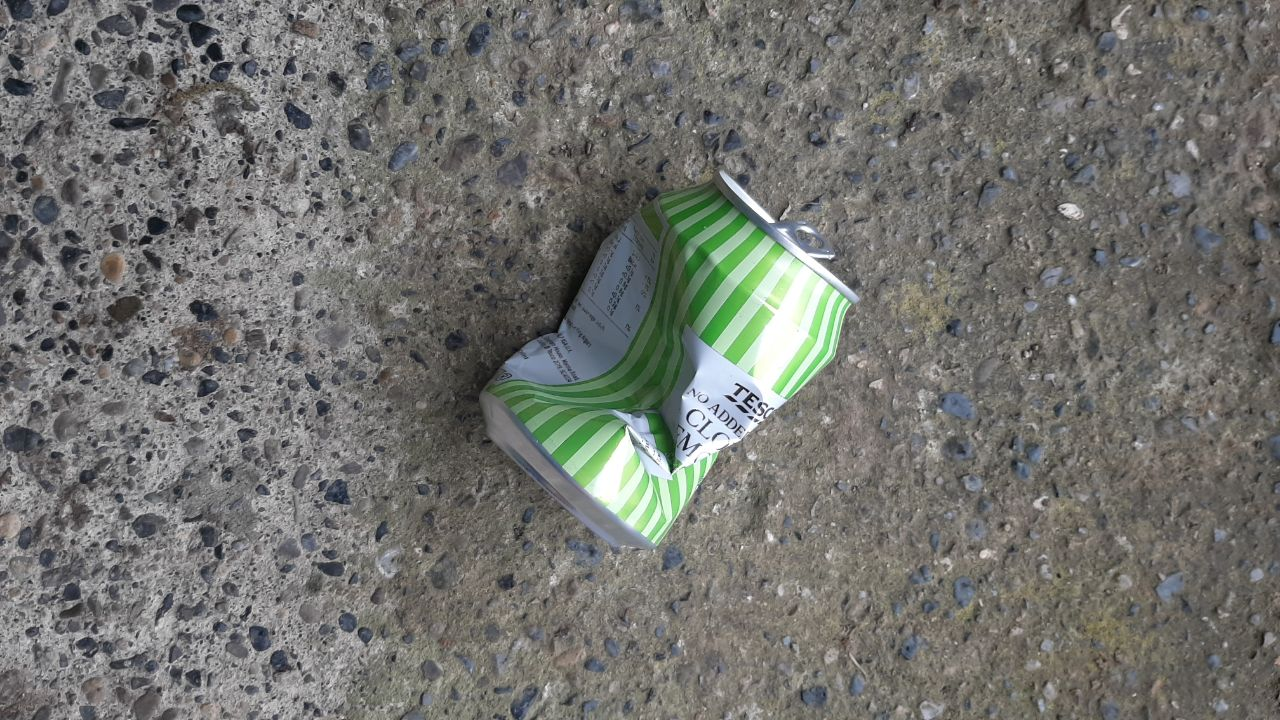Can: (480, 170, 862, 550)
